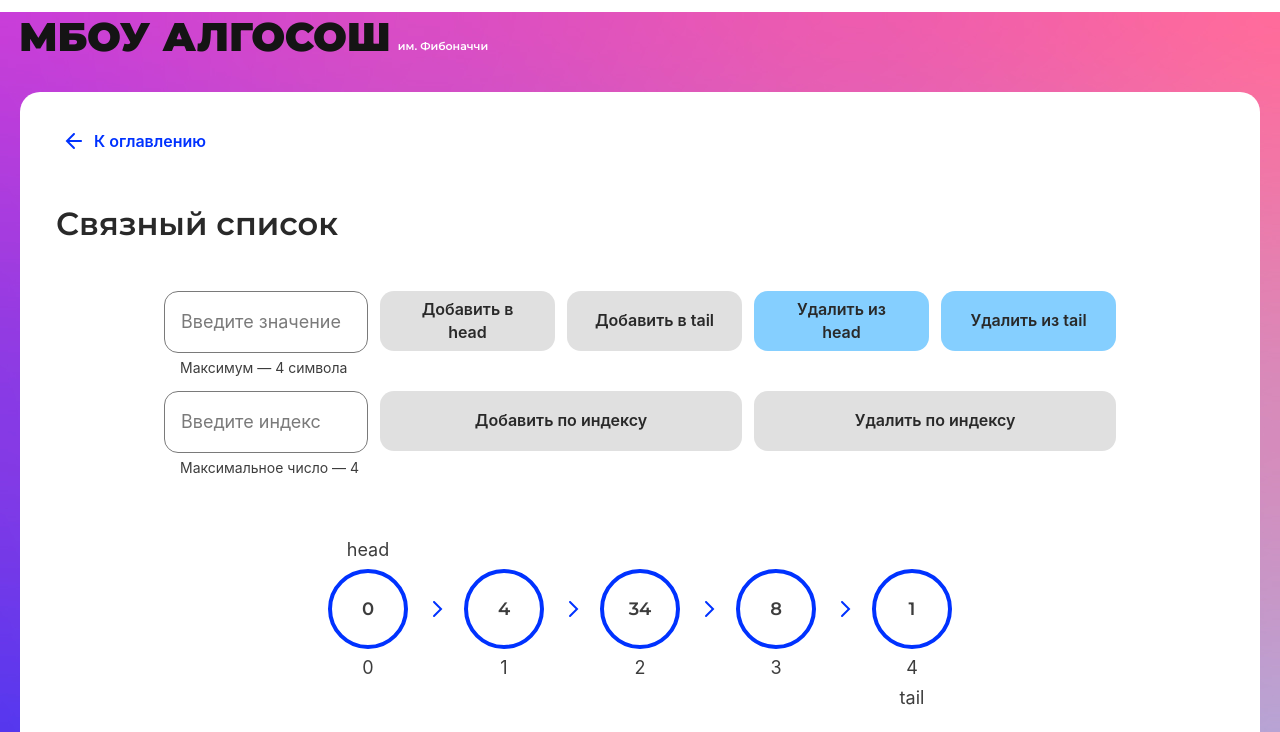
Test: Тестирование Списка › Проверка удаления элемента по индексу
The width and height of the screenshot is (1280, 732).
Type "2" into the number field named "index" at (266, 422), box x1=164 y1=391 x2=368 y2=453
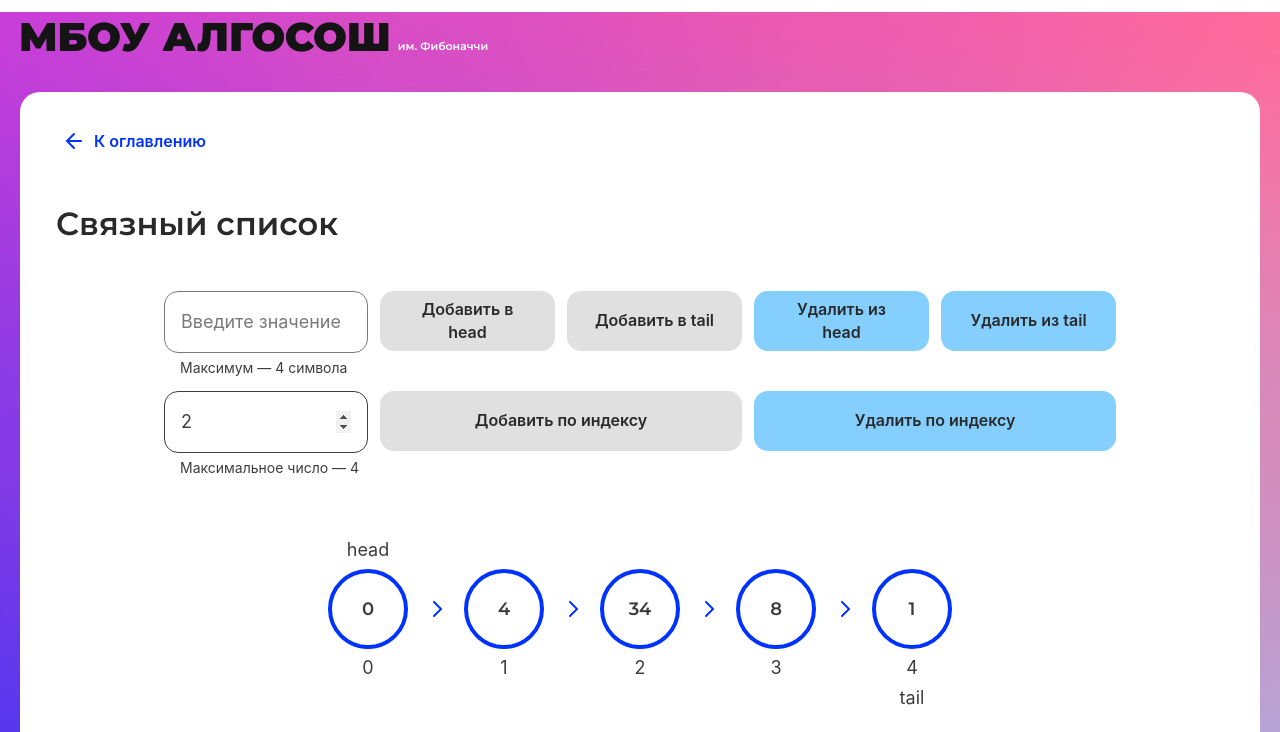
Click the button "Удалить по индексу" at (935, 421), box x1=754 y1=391 x2=1116 y2=451
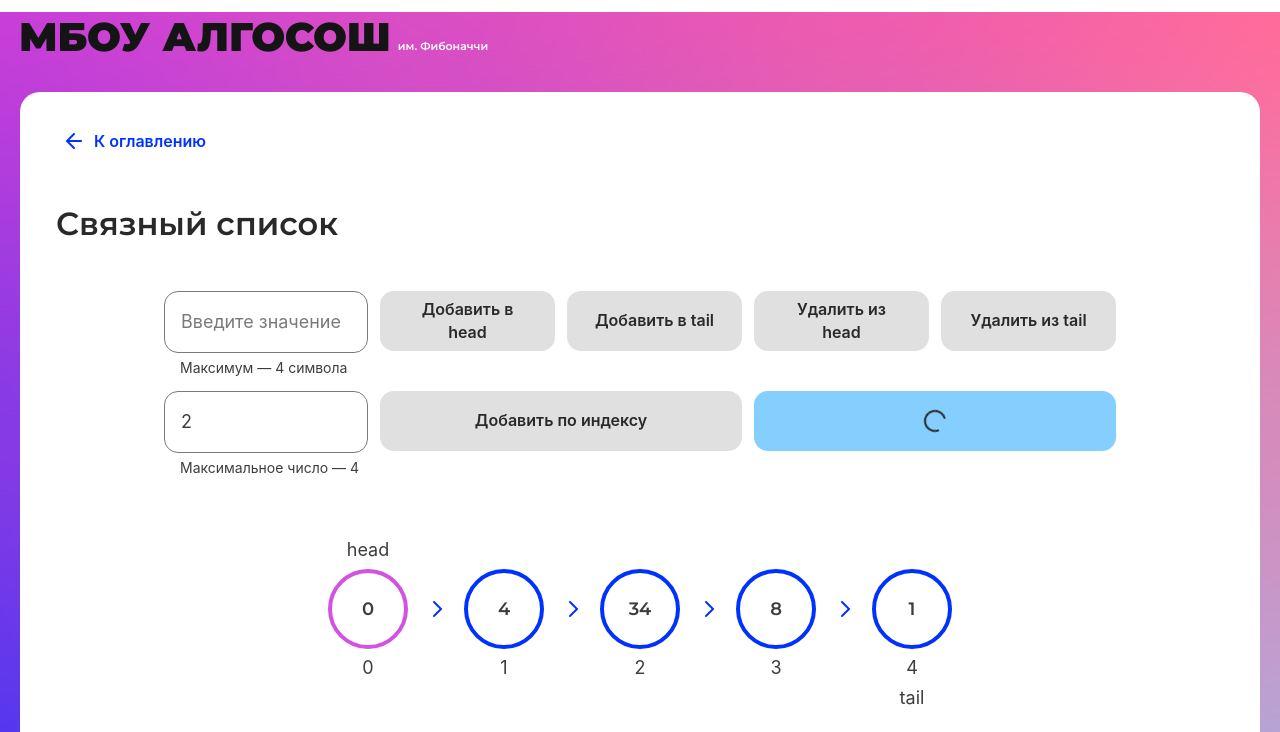
Result: the element with test id "circle" has style "border-color"="rgb(210, 82, 225)" at x1=328 y1=569 x2=408 y2=649
Wait "1000"
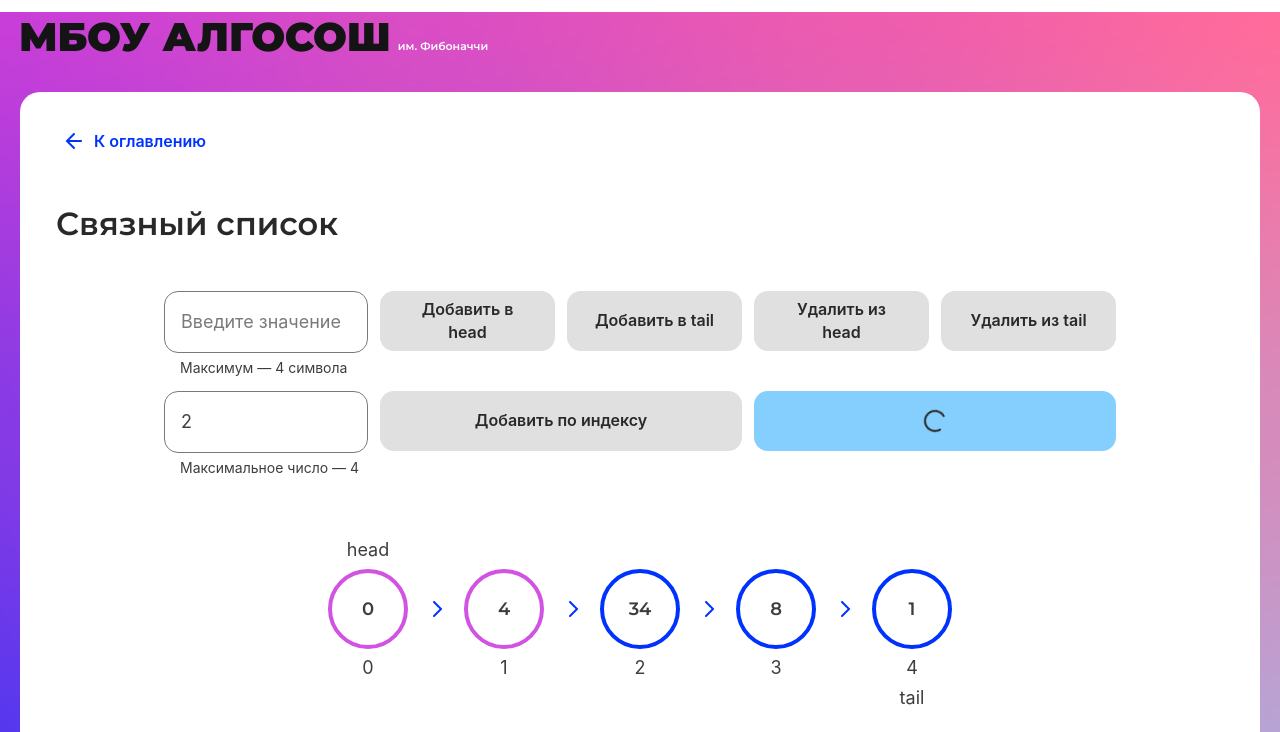
Result: the element with test id "circle" has style "border-color"="rgb(210, 82, 225)" at x1=328 y1=569 x2=408 y2=649
Wait "1000"
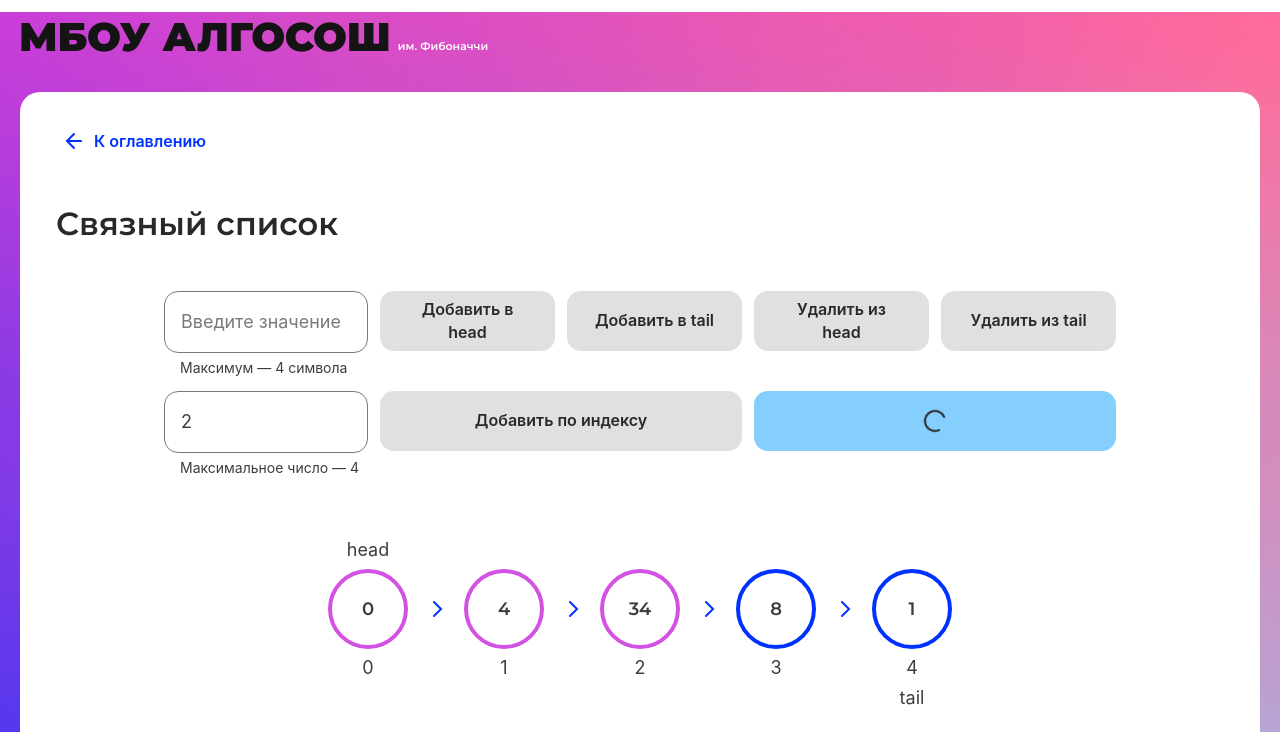
Result: the element with test id "circle" has style "border-color"="rgb(210, 82, 225)" at x1=600 y1=569 x2=680 y2=649
Wait "1000"
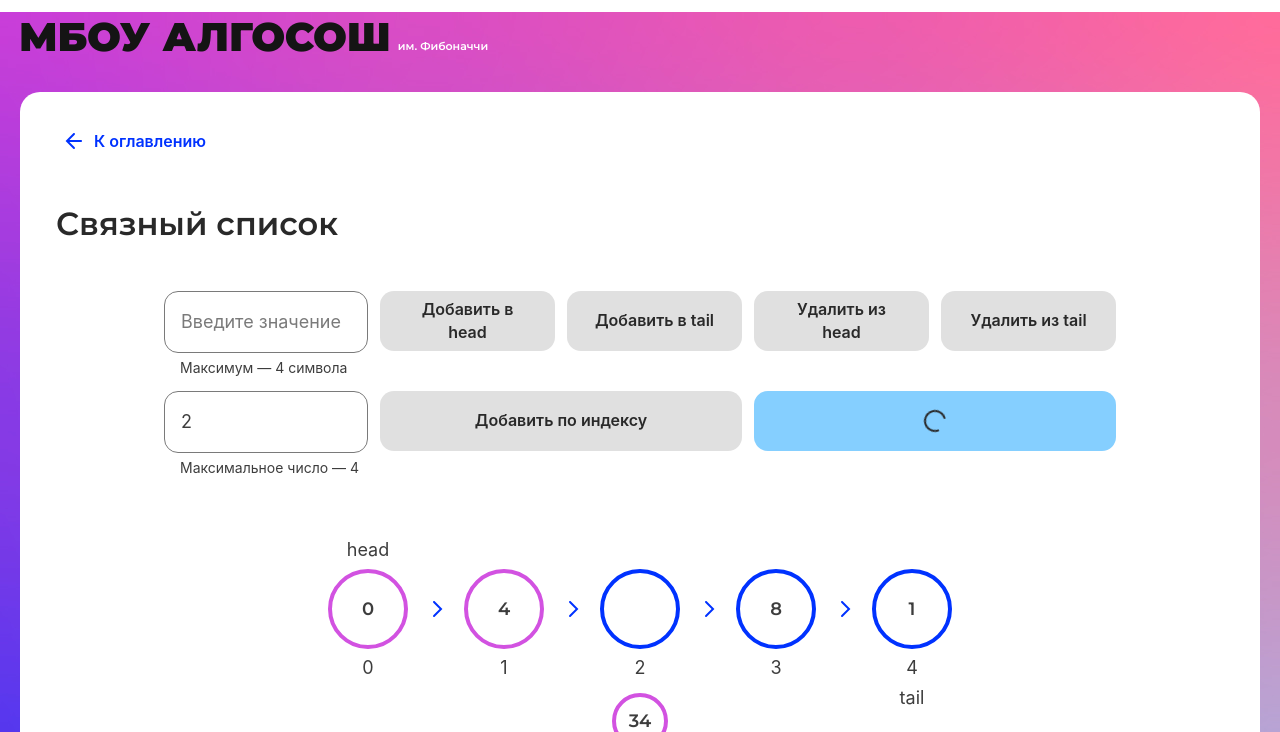
Result: the element with test id "circle" has style "border-color"="rgb(0, 50, 255)" at x1=600 y1=569 x2=680 y2=649
Wait "1000"
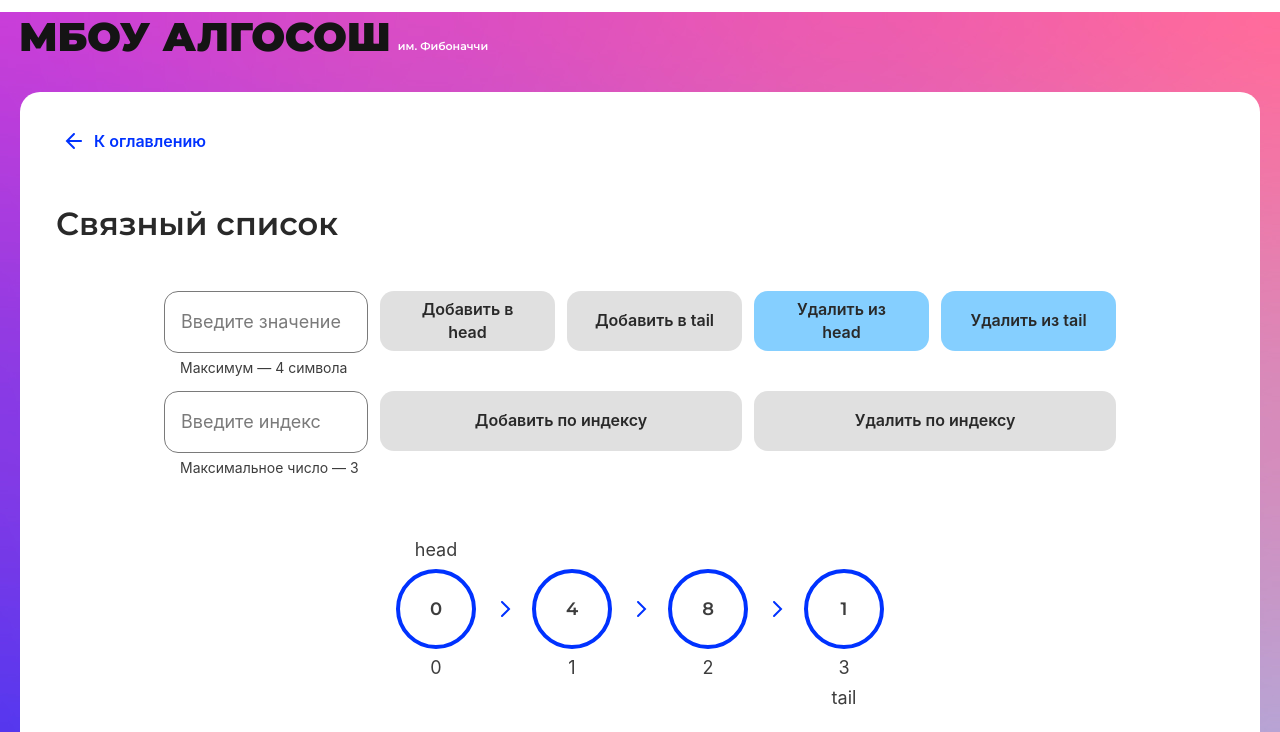
Result: the text "34" is gone
